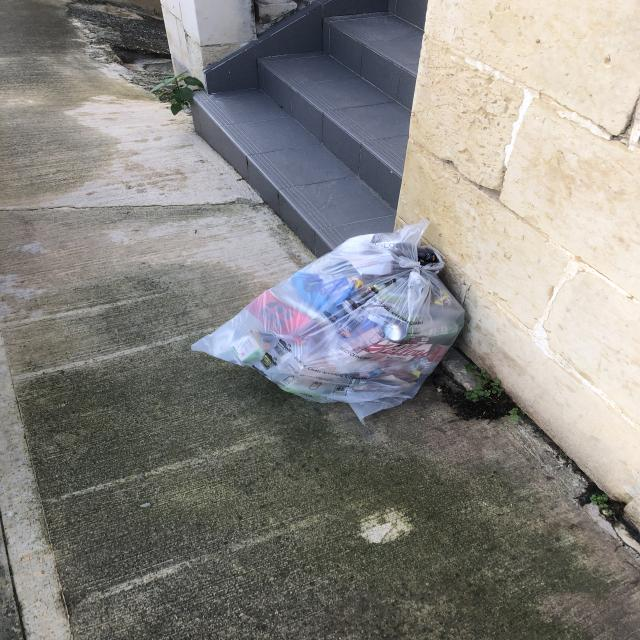Recycled Waste -Grey or Green Bag-: (192, 221, 466, 425)
